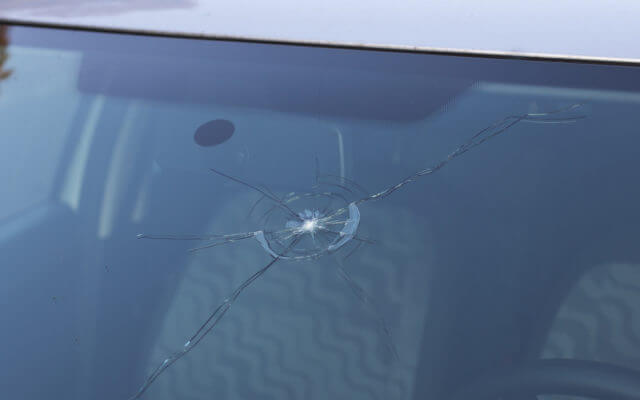bullseye: (276, 205, 344, 249)
scratch: (133, 227, 251, 249)
